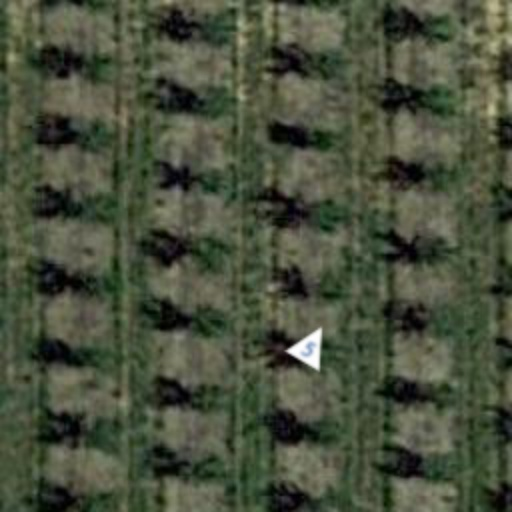triangle: (284, 316, 340, 372)
